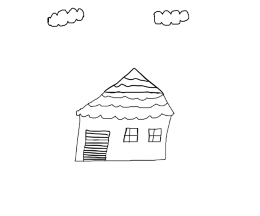closed_window: (118, 125, 142, 145), (146, 126, 165, 147)
clouds: (42, 4, 87, 32), (150, 5, 194, 32)
door: (81, 126, 114, 164)
roof: (60, 64, 191, 122)
small_house: (1, 1, 260, 216)
wall: (73, 109, 175, 171)
